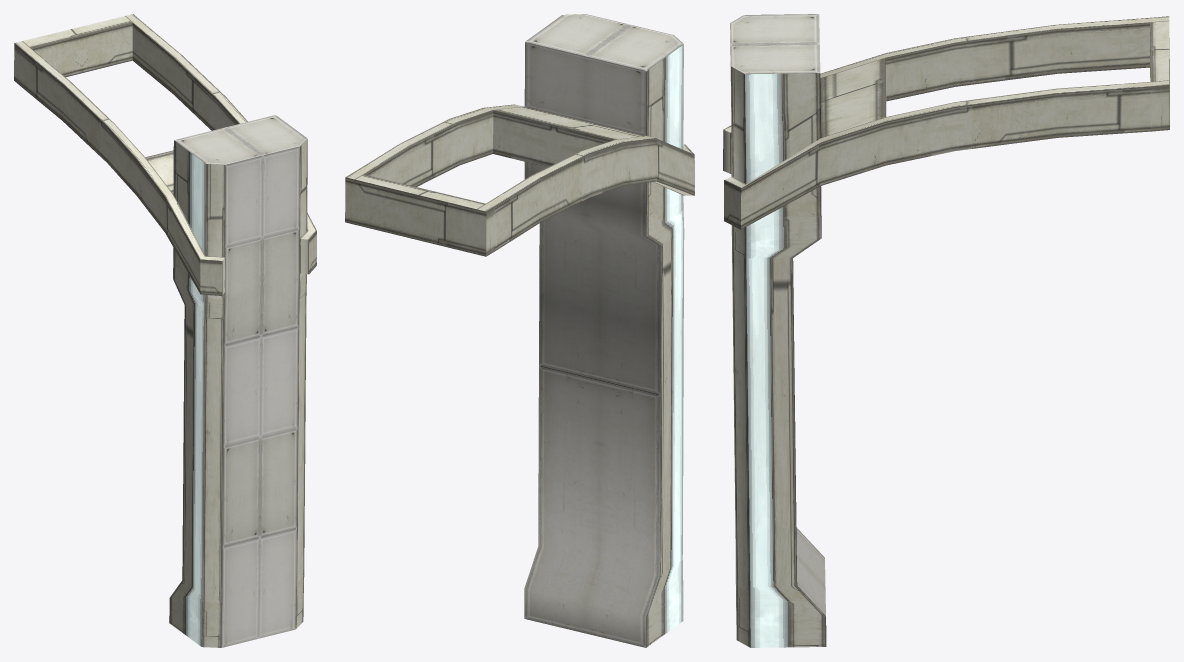
Rendered from STA20_arcpillar.FBX.
The picture shows the model from 3 angles, left to right: view 1: azimuth 30°, elevation 25°; view 2: azimuth 150°, elevation 25°; view 3: azimuth 270°, elevation 25°; orthographic projection. The views are drawn at different scales.
Visible parts, largest first — view 1: STA20_arcpillar; view 2: STA20_arcpillar; view 3: STA20_arcpillar.
Boxes of the visible parts, <box> form: STA20_arcpillar: <box>14,14,316,647</box>; STA20_arcpillar: <box>345,14,694,647</box>; STA20_arcpillar: <box>723,14,1169,647</box>.
Bounding box in the file's own units: 3.18 × 12 × 8.44.
